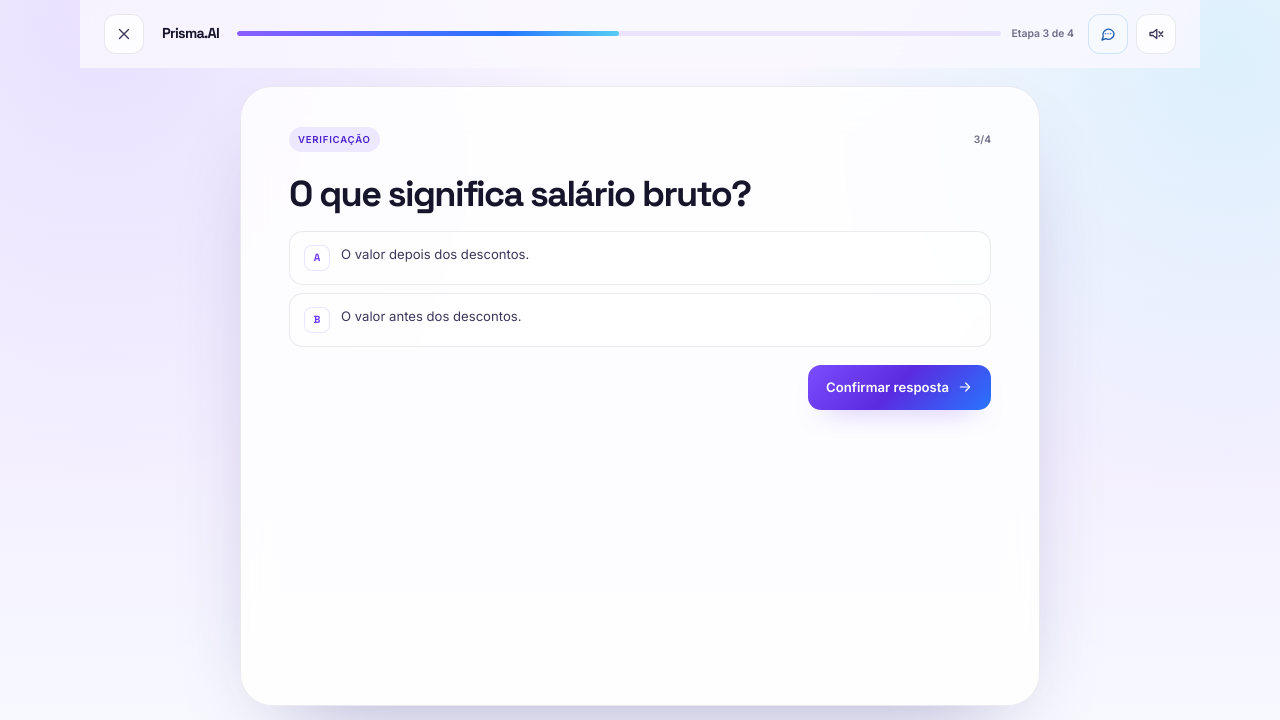
Test case: LessonPlayerPage › adds the Analyst recommendation when an error repeats
The image size is (1280, 720).
Click the radio button labelled "O valor depois dos descontos.": [435, 254] box [289, 231, 991, 285]
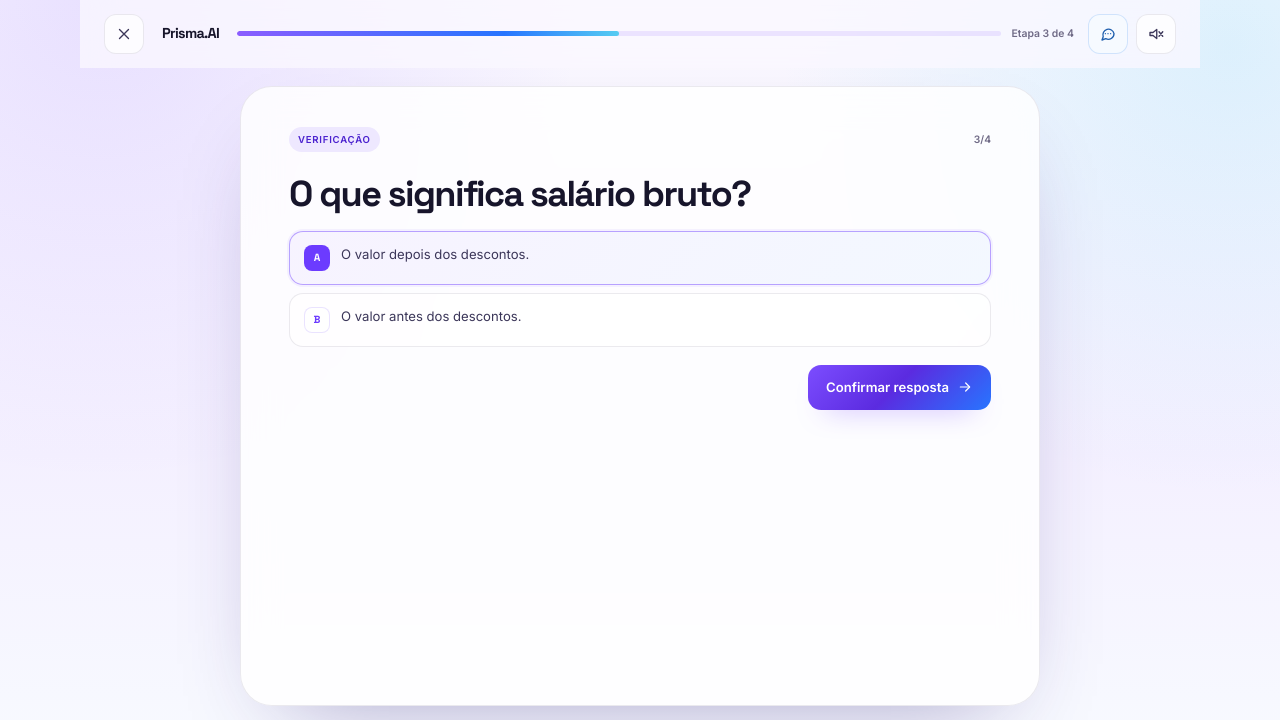
Click the button "Confirmar resposta": [900, 387] box [808, 365, 991, 410]
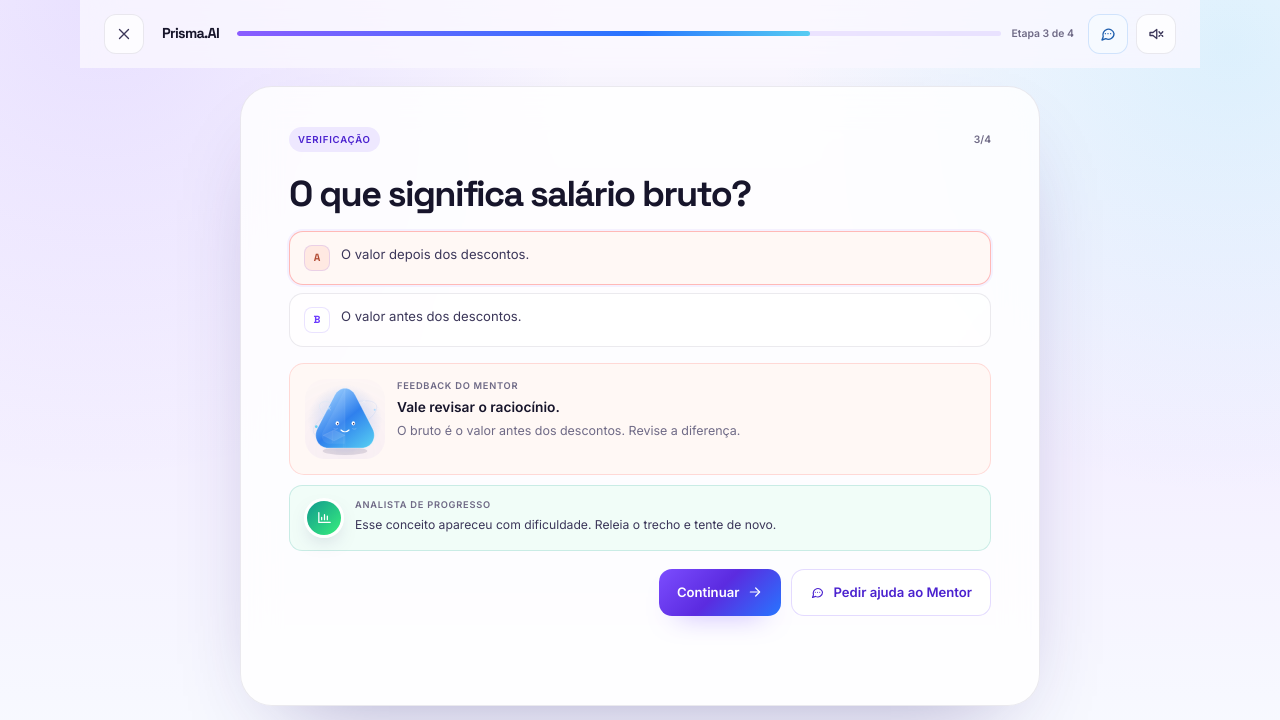
Check: the text "Feedback do Mentor" is shown, box [397, 380, 518, 391]
Check: the text "Analista de Progresso" is shown, box [355, 499, 491, 510]
Check: the text "Esse conceito apareceu com dificuldade" is shown, box [355, 516, 776, 532]
